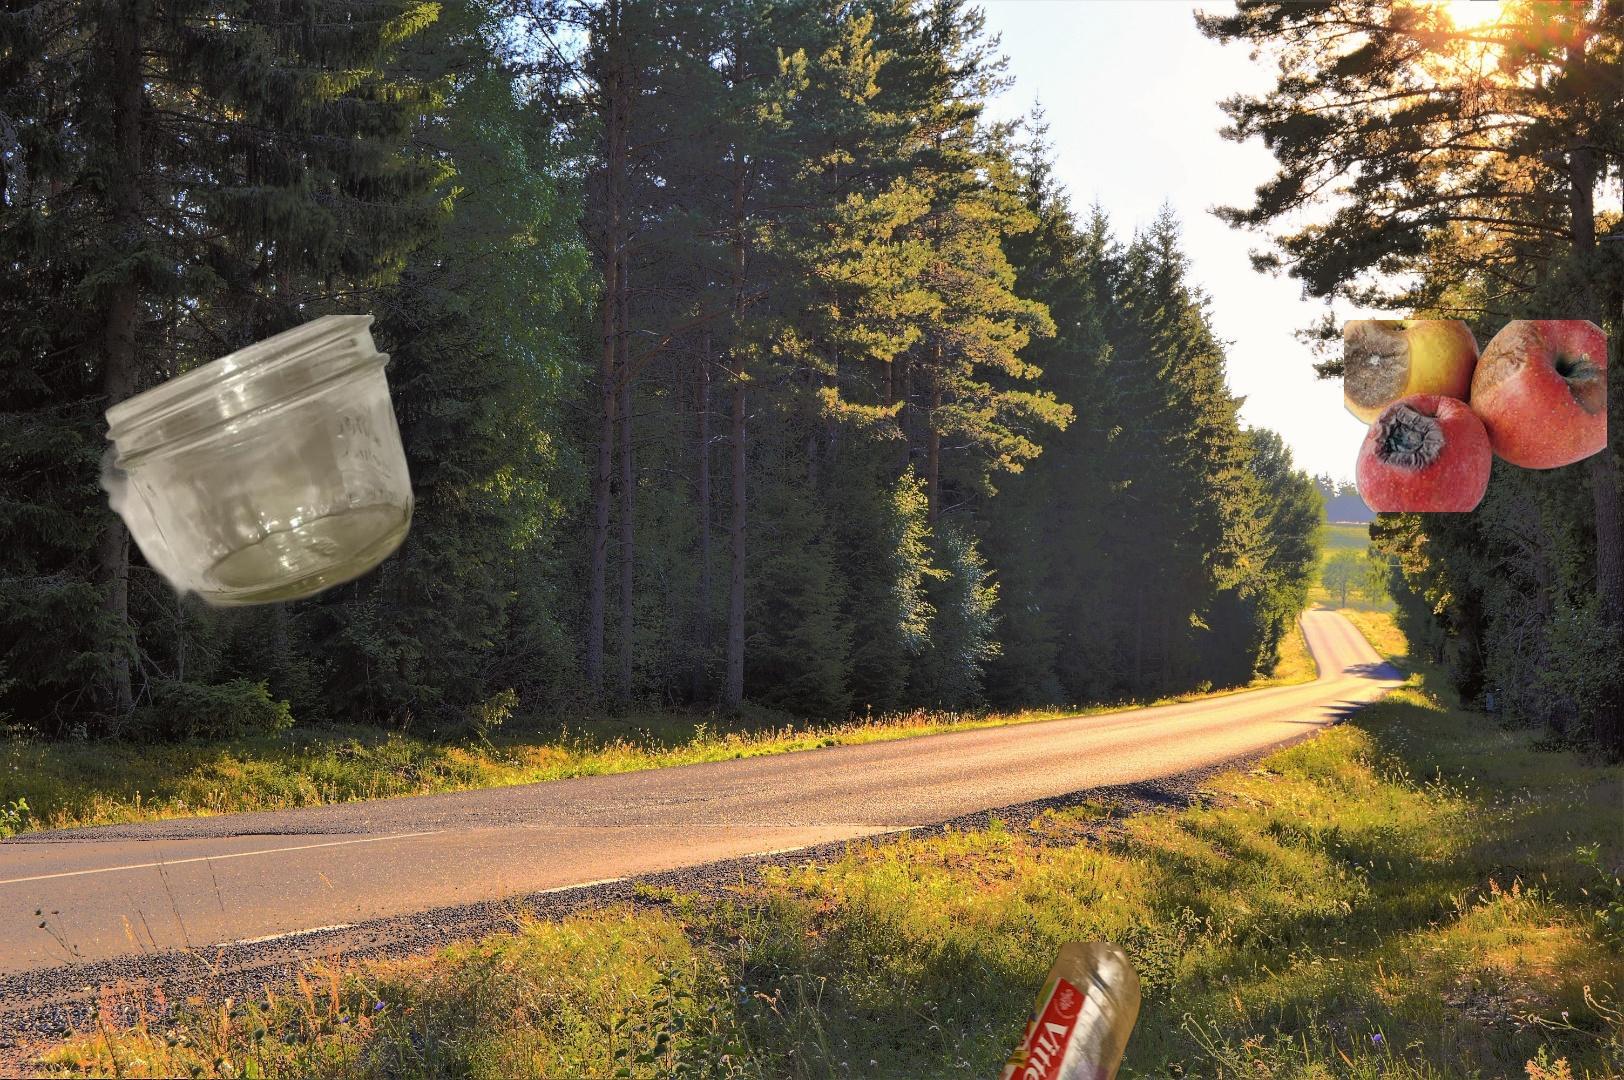biological: (1344, 319, 1607, 512)
glass: (94, 315, 419, 653)
plastic-bottles: (930, 943, 1145, 1080)
